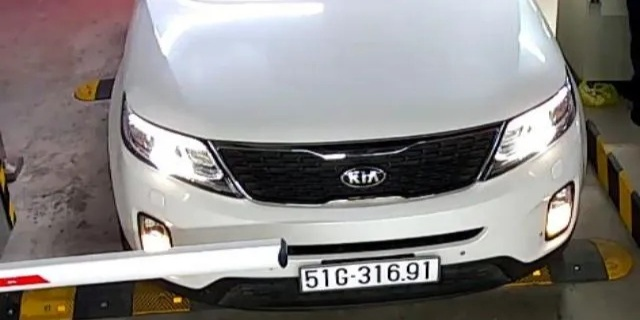bien_so: (300, 258, 437, 287)
